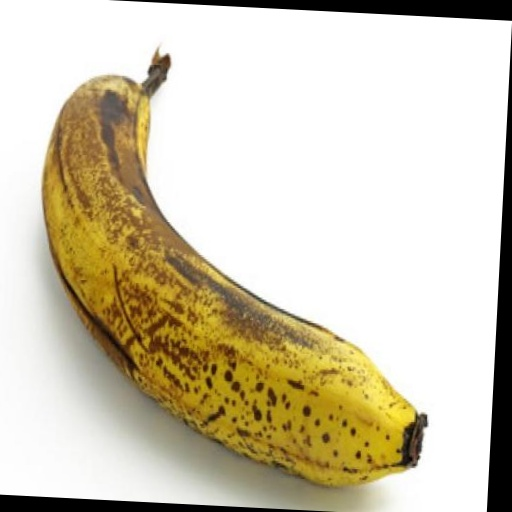fruit: (42, 53, 425, 485)
